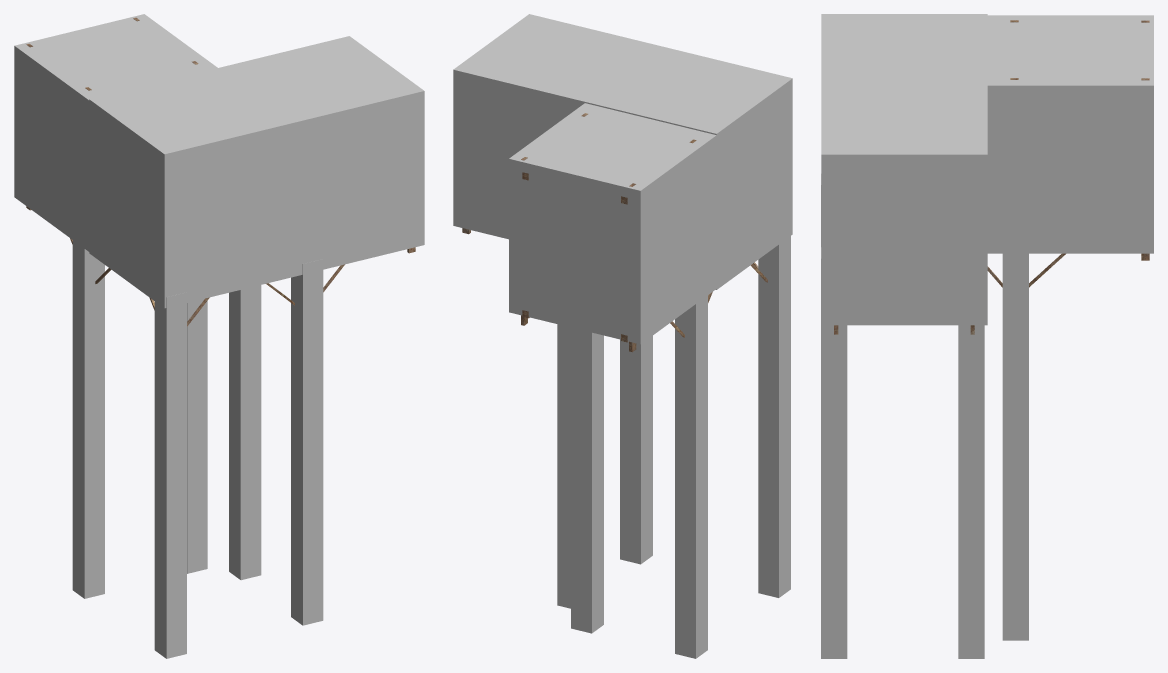
The model's file is ind_walk_Rnd.dae.
3 views of the same model, side by side, from view 1: azimuth 30°, elevation 25°; view 2: azimuth 150°, elevation 25°; view 3: azimuth 270°, elevation 25° (orthographic). The views are drawn at different scales.
Visible parts, largest first — view 1: Colmesh-1, ind_bld_c300; view 2: Colmesh-1, ind_bld_c300; view 3: Colmesh-1, ind_bld_c300.
Boxes of the visible parts, <box> form: Colmesh-1: <box>14,14,424,658</box>; ind_bld_c300: <box>26,17,415,326</box>; Colmesh-1: <box>453,14,792,658</box>; ind_bld_c300: <box>462,113,767,352</box>; Colmesh-1: <box>821,14,1153,658</box>; ind_bld_c300: <box>834,20,1149,334</box>.
Bounding box in the file's own units: 4 × 4 × 7.42.
